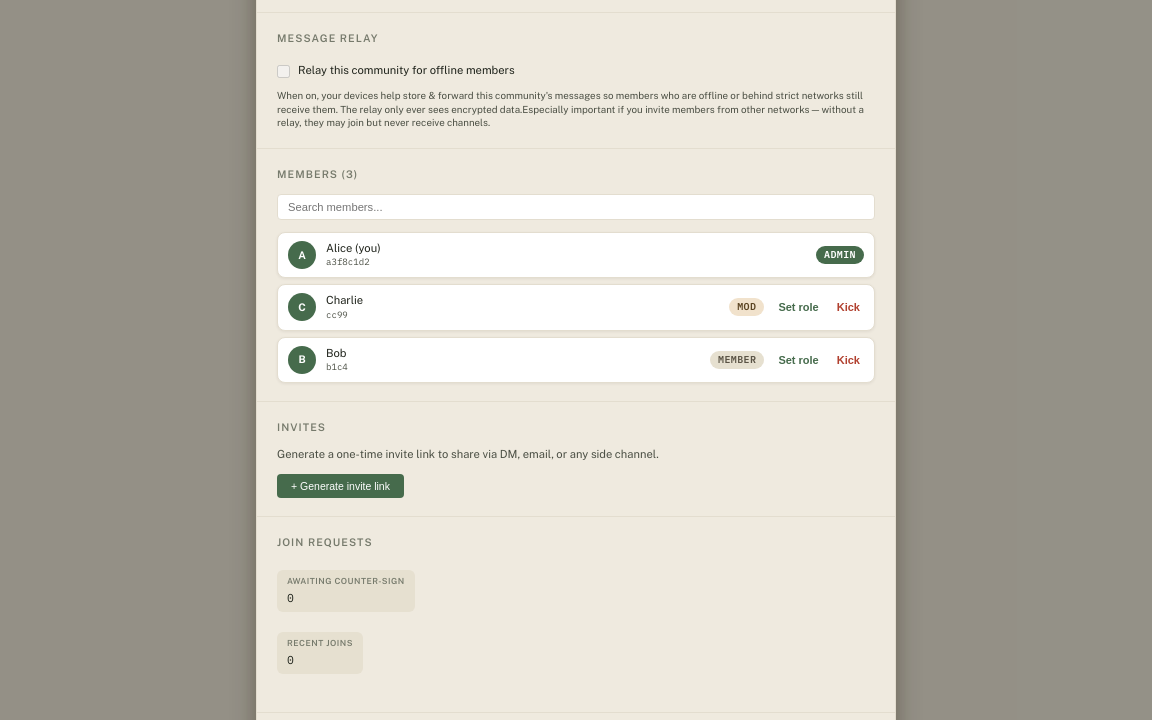
Test case: CommunitySettingsPanel › Kick button opens tier-2 confirmation
The image size is (1152, 720).
(page scrolled)
Click the button with class "kick" in the row of "b1c4".
click(848, 360)  # box [833, 352, 864, 368]
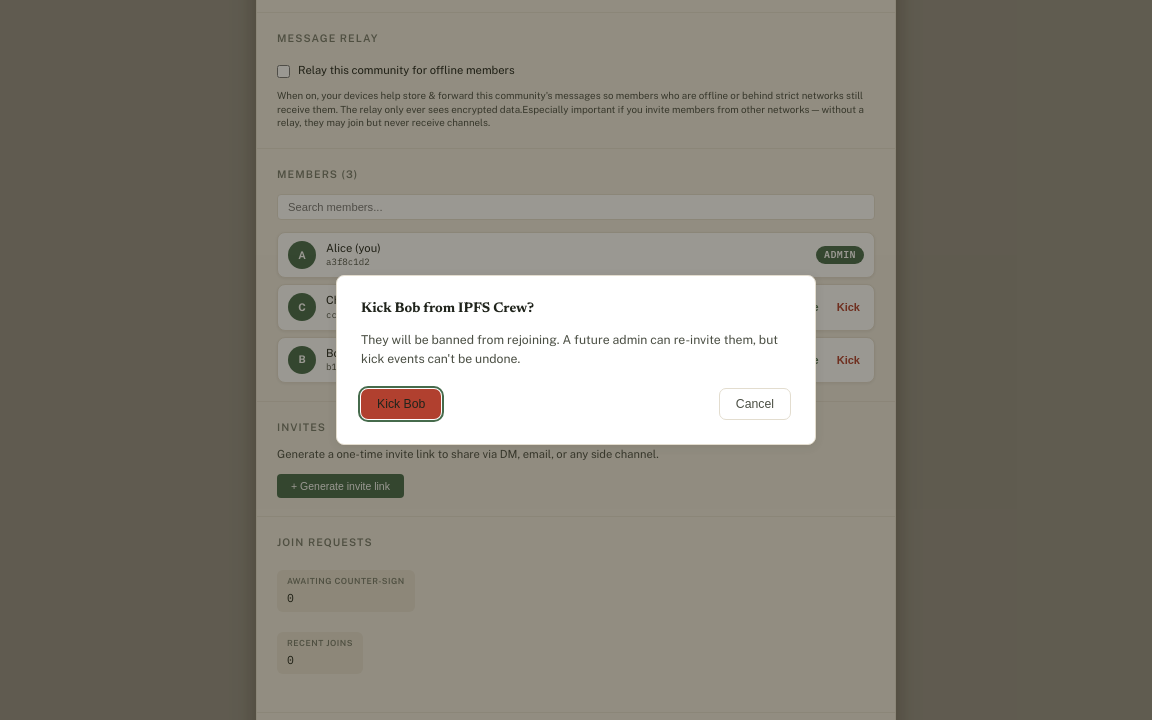
Expected: the button "Kick Bob" is shown, [361, 389, 441, 419]
